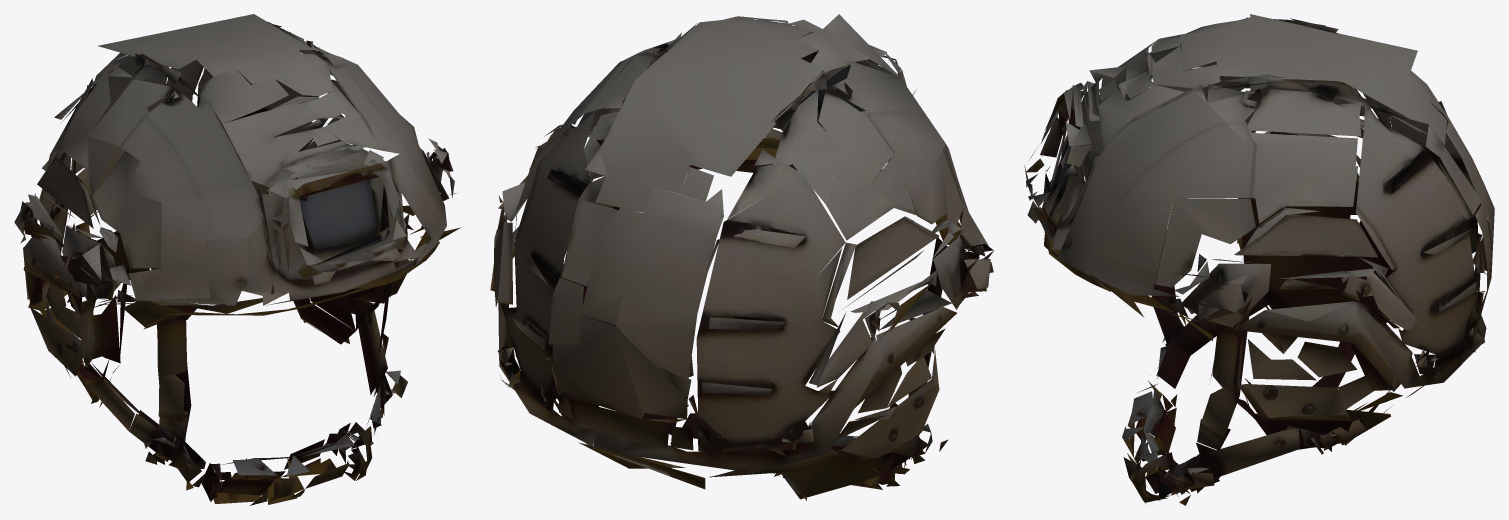
Rendered from mer_tactical_helmet_nvg_LOD3.glb.
3 renders of one model, left to right at view 1: azimuth 30°, elevation 25°; view 2: azimuth 150°, elevation 25°; view 3: azimuth 270°, elevation 25°, orthographic. The views are drawn at different scales.
Visible parts, largest first — view 1: tripo_node_3221aee6-50b0-457b-a914-8cea8e218df3; view 2: tripo_node_3221aee6-50b0-457b-a914-8cea8e218df3; view 3: tripo_node_3221aee6-50b0-457b-a914-8cea8e218df3.
Part boxes in pixels (x1,y1,x2,y2): tripo_node_3221aee6-50b0-457b-a914-8cea8e218df3: (14, 14, 460, 505); tripo_node_3221aee6-50b0-457b-a914-8cea8e218df3: (490, 14, 993, 500); tripo_node_3221aee6-50b0-457b-a914-8cea8e218df3: (1024, 14, 1494, 505).
Bounding box in the file's own units: 0.9849 × 0.9951 × 0.9796.
Materials: 1 (1 with a texture image).
